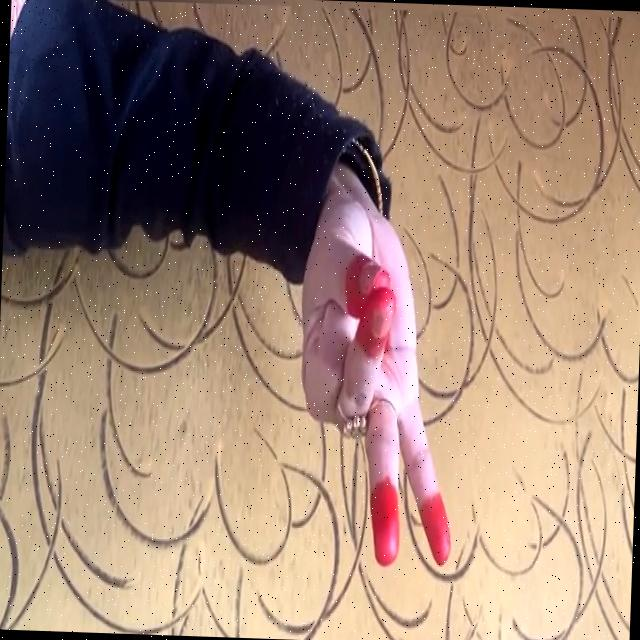Bhramara: (260, 168, 486, 611)
